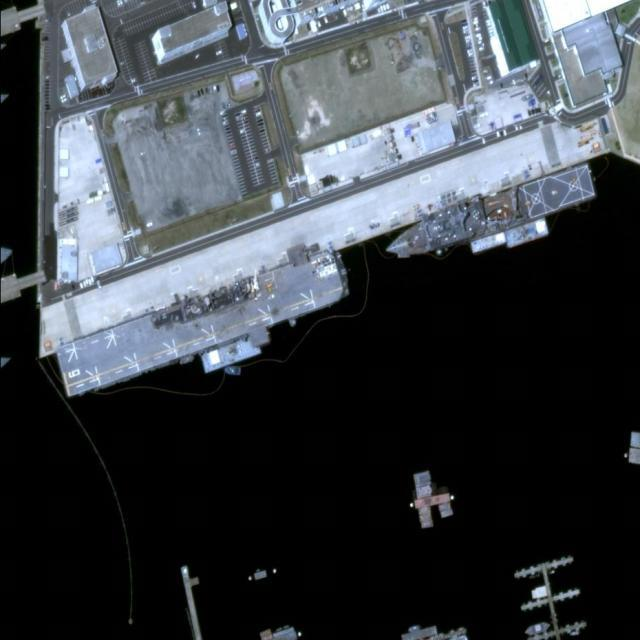Landing: (52, 252, 350, 394), (377, 160, 601, 271)
